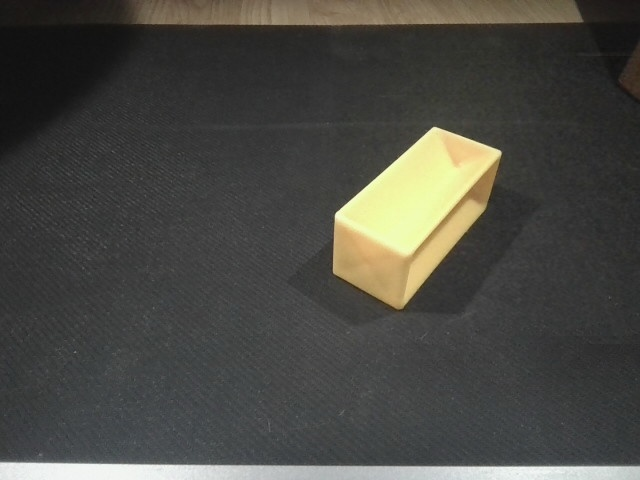YellowSample: (326, 126, 501, 311)
